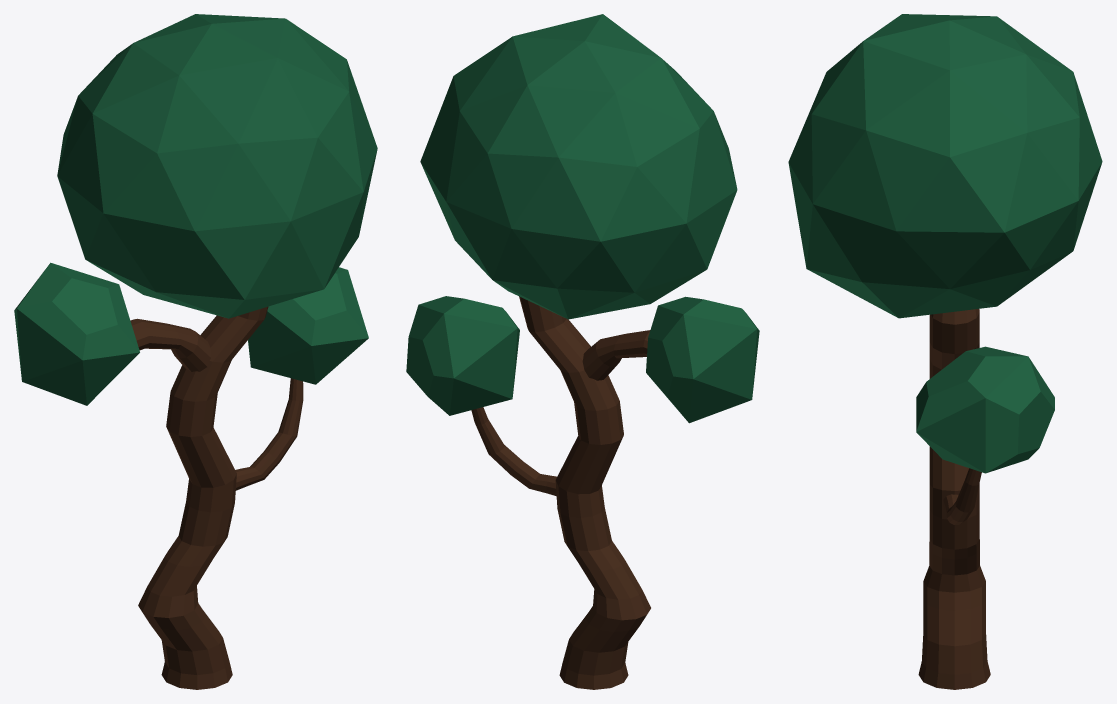
The model's file is agac.fbx.
The picture shows the model from 3 angles, left to right: view 1: azimuth 30°, elevation 25°; view 2: azimuth 150°, elevation 25°; view 3: azimuth 270°, elevation 25°; orthographic projection. The views are drawn at different scales.
Visible parts, largest first — view 1: Icosphere.001, Cylinder, Icosphere.002, Icosphere; view 2: Icosphere.001, Cylinder, Icosphere.002, Icosphere; view 3: Icosphere.001, Cylinder, Icosphere.
Boxes of the visible parts, x1,y1,x2,y2 form: Icosphere.001: (57, 14, 377, 318); Cylinder: (130, 306, 303, 689); Icosphere.002: (14, 262, 139, 405); Icosphere: (248, 267, 368, 384); Icosphere.001: (420, 14, 737, 319); Cylinder: (471, 296, 650, 689); Icosphere.002: (646, 296, 759, 423); Icosphere: (406, 296, 519, 415); Icosphere.001: (788, 14, 1102, 318); Cylinder: (918, 309, 990, 689); Icosphere: (916, 346, 1054, 473).
Bounding box in the file's own units: 552 × 993 × 428.
